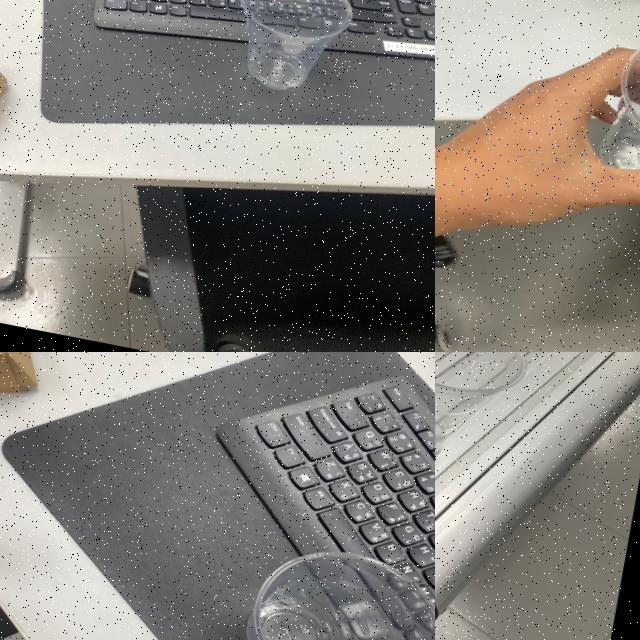glass: (222, 524, 435, 640), (218, 0, 362, 109), (435, 352, 546, 481), (582, 12, 640, 229)
